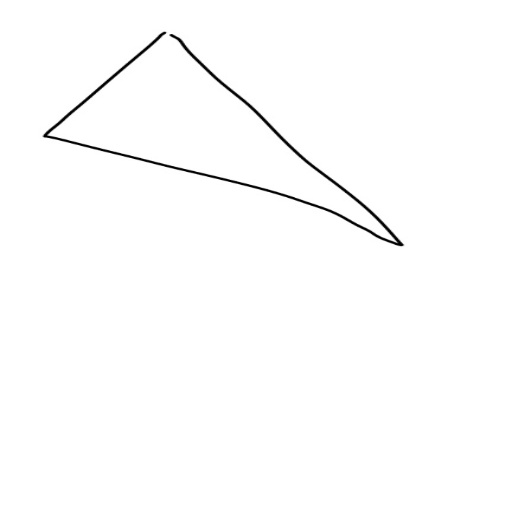triangle: (39, 24, 415, 266)
